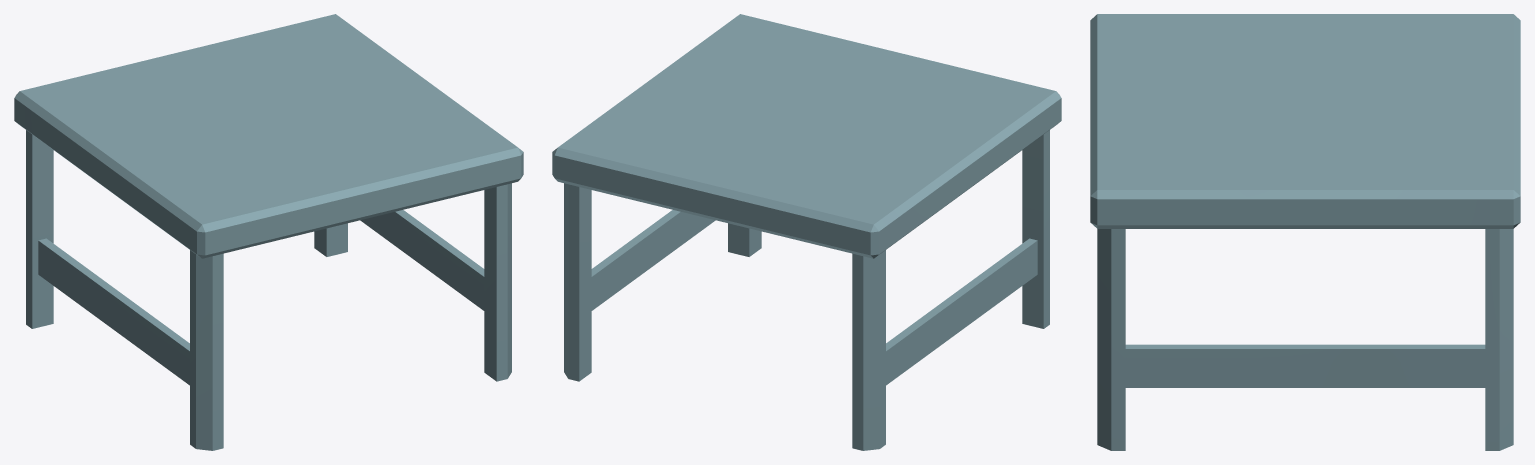
Rendered from KitchenTableSmall.glb.
3 renders of one model, left to right at view 1: azimuth 30°, elevation 25°; view 2: azimuth 150°, elevation 25°; view 3: azimuth 270°, elevation 25°, orthographic. The views are drawn at different scales.
Parts seen in each view (by area): view 1: KitchenTableSmall; view 2: KitchenTableSmall; view 3: KitchenTableSmall.
Part boxes in pixels (left/top/right/bottom): KitchenTableSmall: left=14, top=14, right=523, bottom=450; KitchenTableSmall: left=552, top=14, right=1061, bottom=450; KitchenTableSmall: left=1090, top=14, right=1520, bottom=450.
Size of the model in its own units: 1 by 0.6696 by 1.
1 material, 1 textured.
